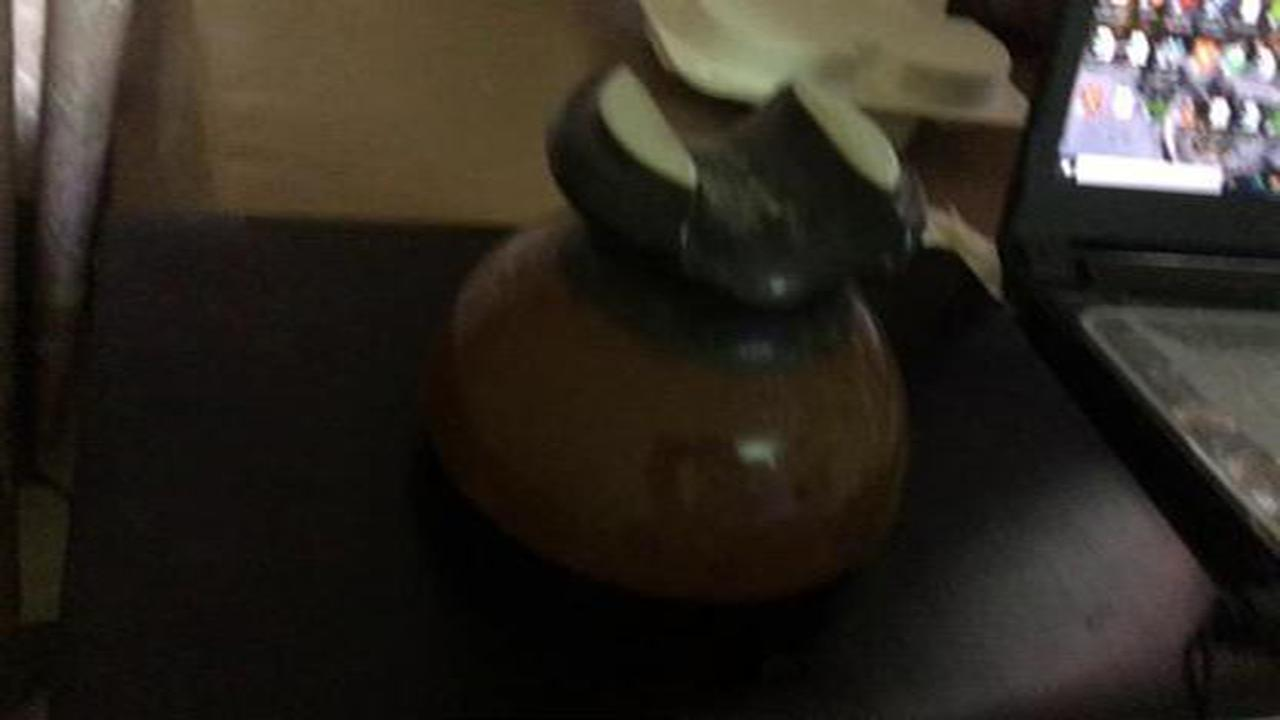insulator_pin: (413, 47, 973, 620)
